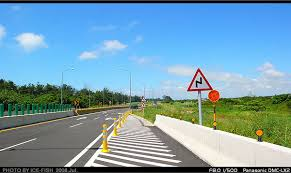Double_bend_right: (185, 68, 214, 92)
